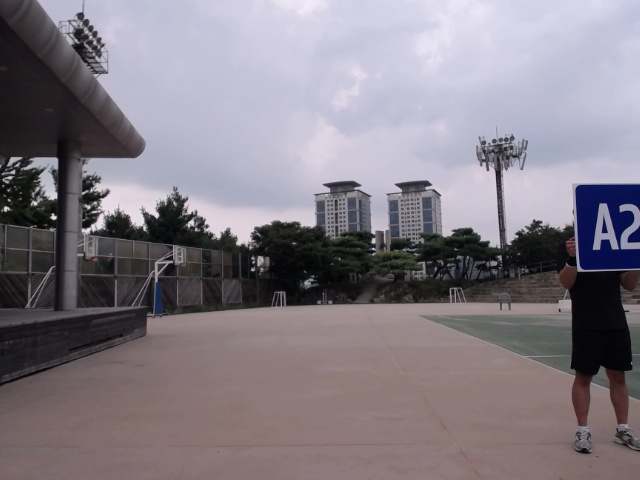delivery_a2: (576, 183, 638, 273)
